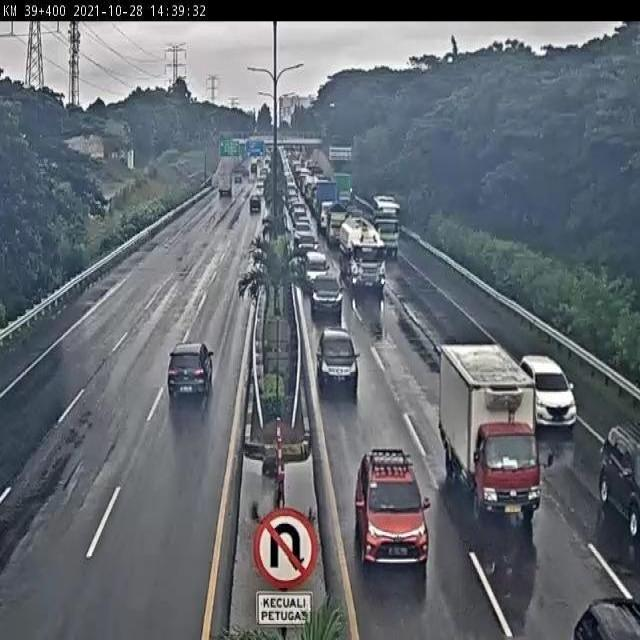Bus: (371, 193, 402, 222)
Car: (350, 443, 433, 572), (597, 424, 640, 539), (520, 354, 577, 428), (316, 326, 360, 398), (166, 342, 213, 404), (571, 598, 640, 640), (311, 274, 345, 322), (304, 251, 329, 286), (295, 233, 320, 260), (290, 222, 314, 240)
Truck: (435, 340, 558, 522), (339, 215, 386, 292), (371, 214, 401, 258), (325, 200, 351, 248), (316, 179, 337, 235), (333, 171, 354, 208), (218, 169, 232, 197), (250, 193, 261, 213), (234, 169, 243, 183), (250, 161, 258, 174), (249, 172, 256, 184)
Van: (256, 180, 266, 198)
